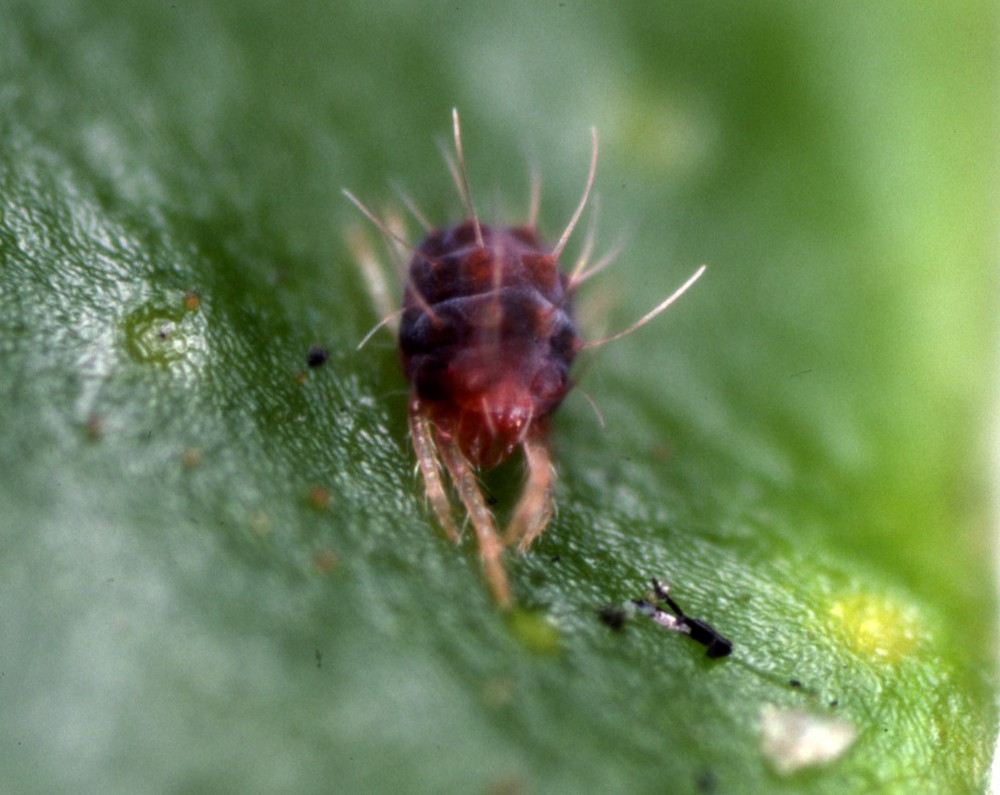Aracnido Rojo: (316, 115, 694, 614)
